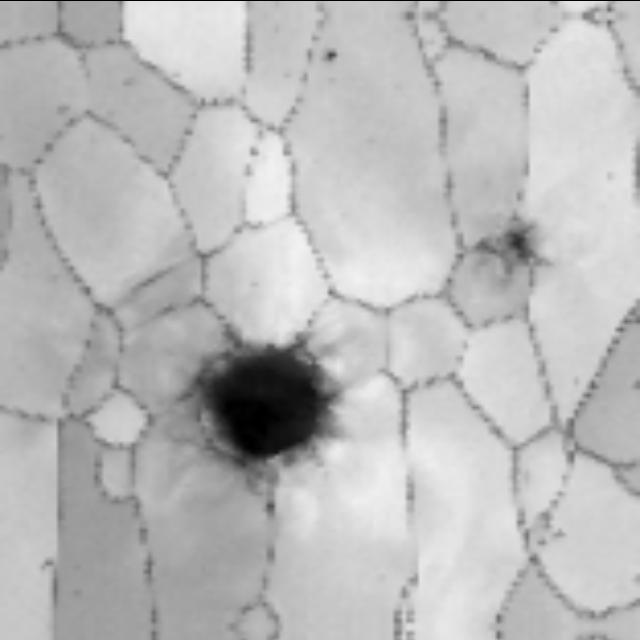good_void: (148, 308, 360, 511), (444, 199, 569, 307), (318, 42, 343, 65)
